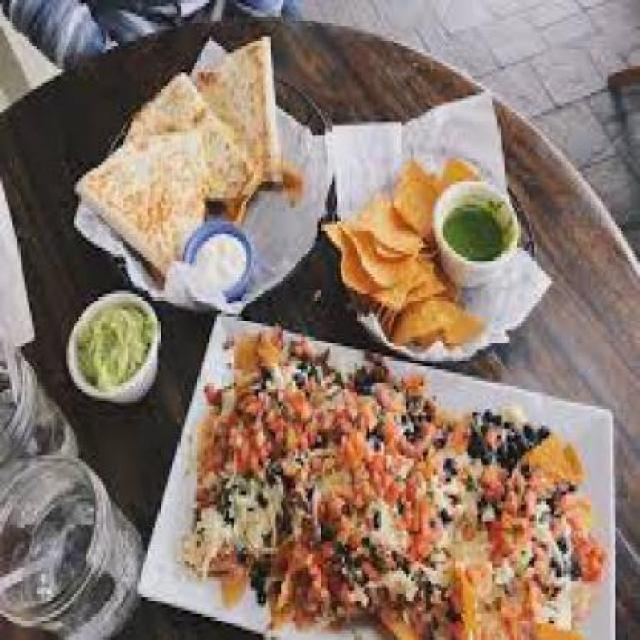chicken quesadilla: (66, 30, 300, 281)
guacamole: (59, 293, 168, 402)
nachos: (187, 330, 601, 630), (318, 139, 473, 346)
